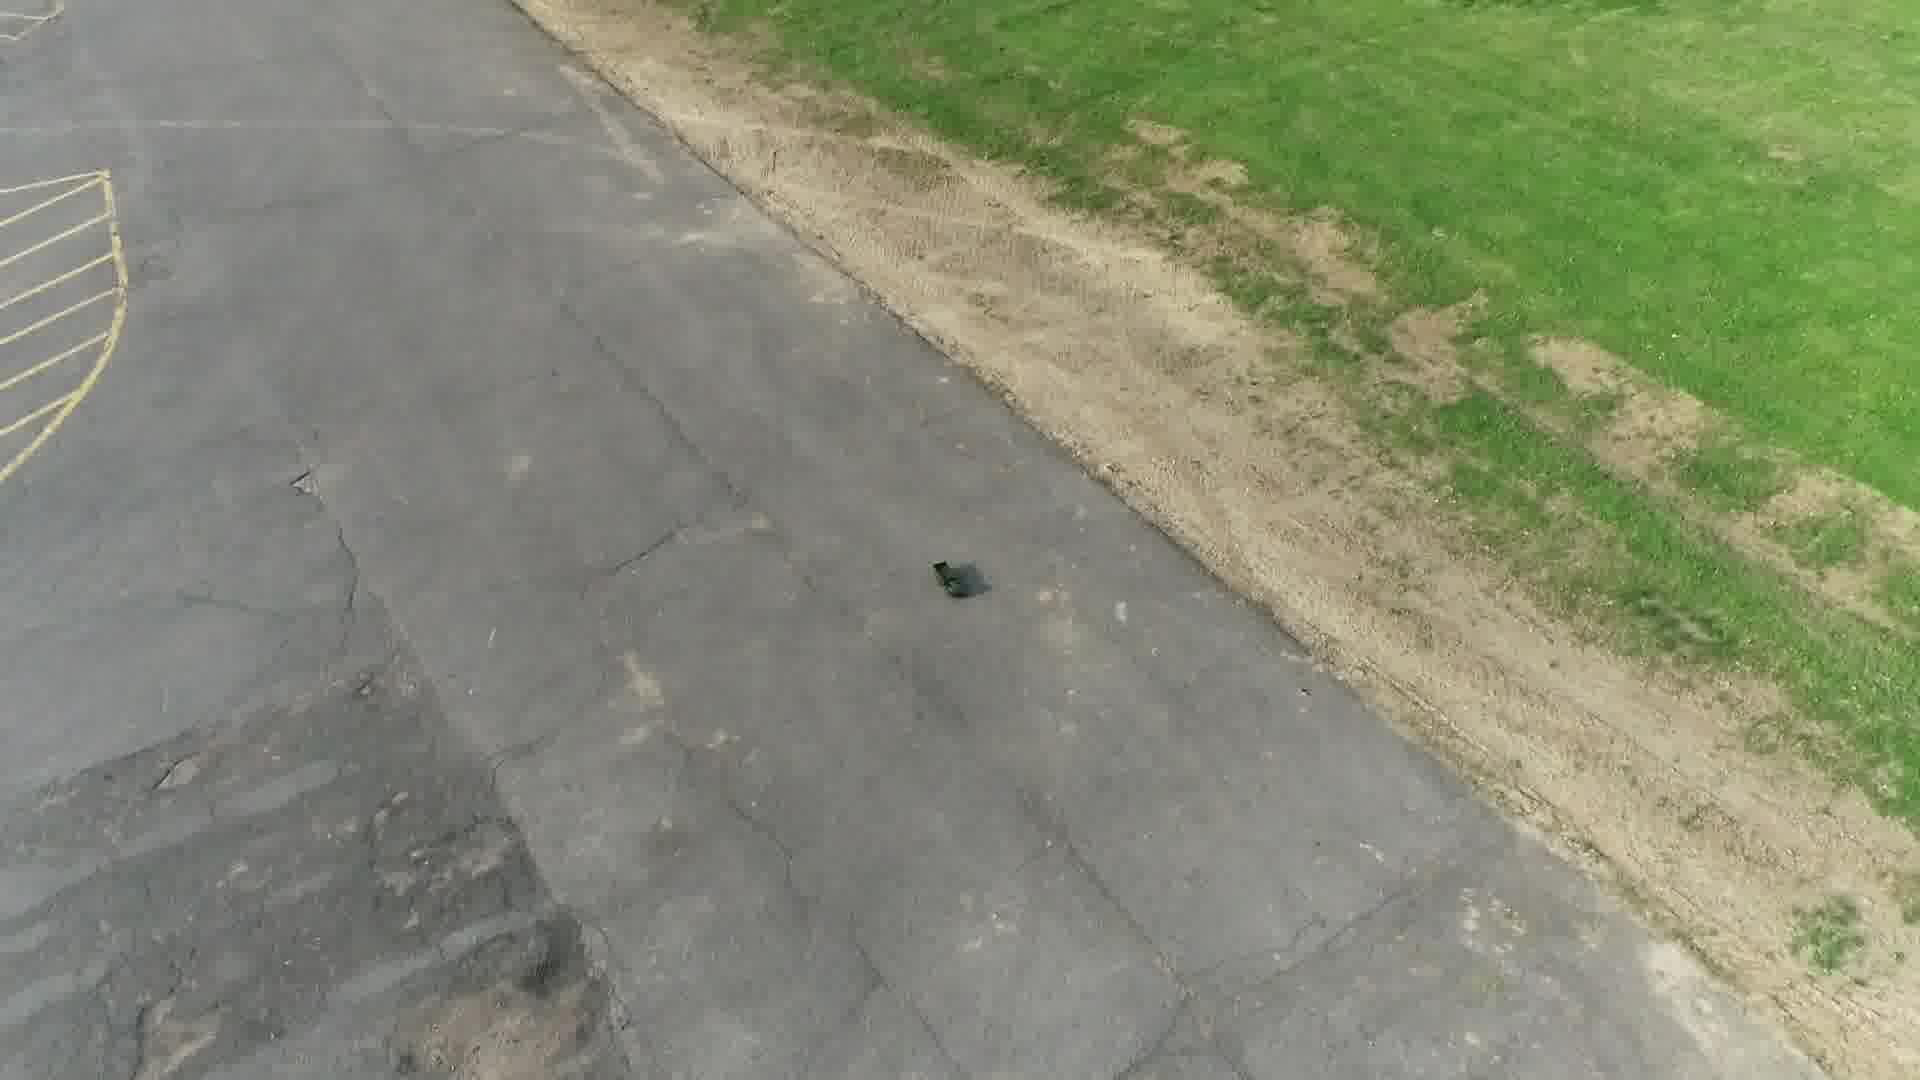transporter9: (926, 558, 971, 599)
